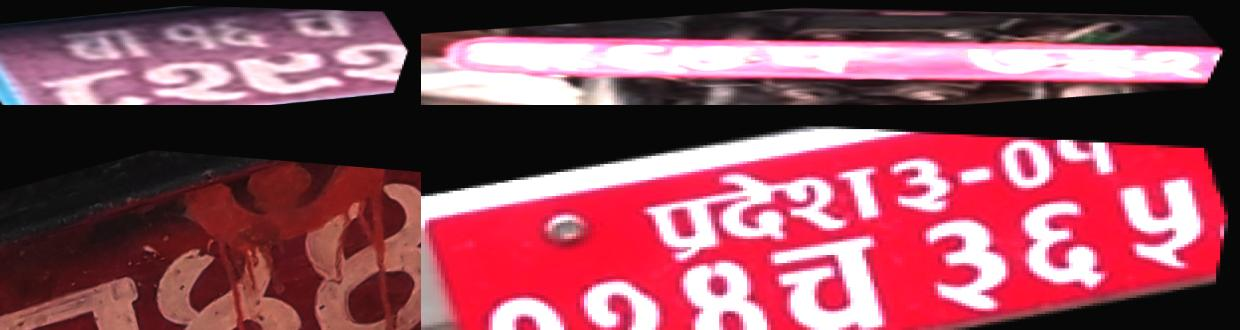0: (467, 274, 615, 330), (977, 129, 1073, 192)
1: (1038, 132, 1136, 181), (142, 15, 238, 58), (1185, 46, 1227, 78)
2: (559, 257, 718, 330), (128, 53, 272, 105), (1104, 38, 1230, 82), (314, 34, 414, 88), (1041, 42, 1160, 80)
3: (888, 196, 1049, 320), (872, 141, 973, 215)
4: (662, 242, 812, 330)
5: (132, 201, 337, 330), (277, 149, 421, 330), (1089, 153, 1237, 277)
6: (992, 178, 1150, 304), (580, 37, 708, 78), (198, 10, 295, 53)
7: (925, 39, 1086, 80), (650, 34, 788, 75)
8: (25, 62, 177, 105)
9: (0, 252, 189, 330), (224, 43, 368, 98)
ba: (438, 32, 631, 80), (40, 19, 178, 68)
cha: (750, 217, 936, 330), (266, 6, 375, 44)
pa: (748, 36, 908, 80)
